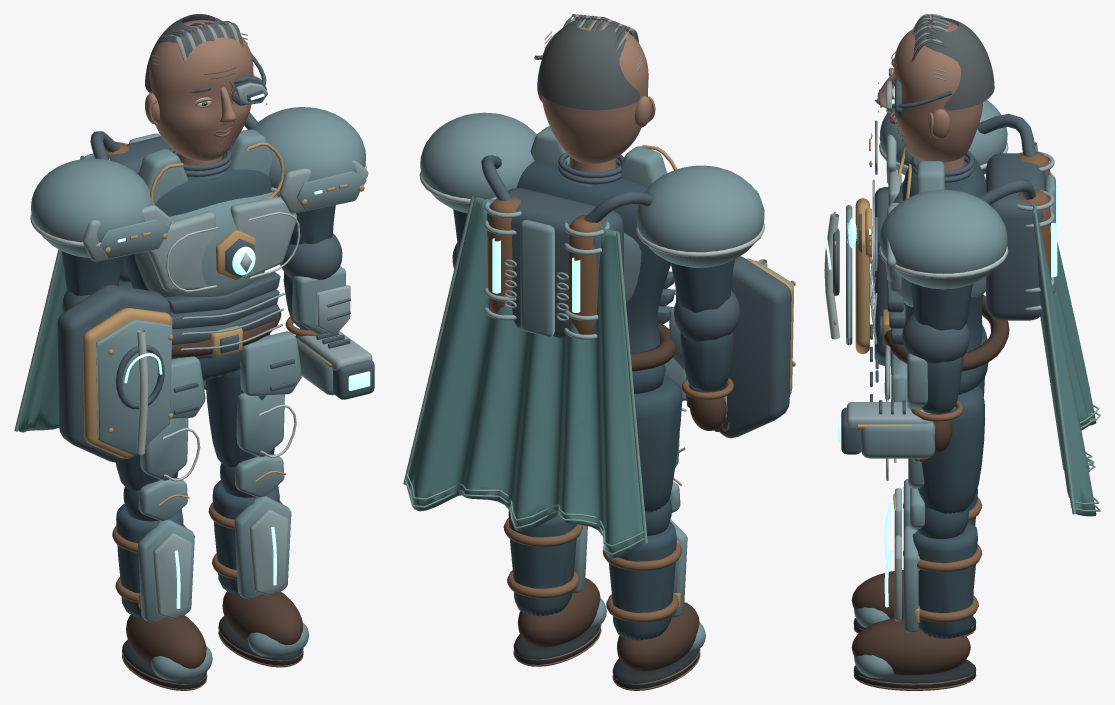
Rendered from rune.glb.
3 views of the same model, side by side, from view 1: azimuth 30°, elevation 25°; view 2: azimuth 150°, elevation 25°; view 3: azimuth 270°, elevation 25° (orthographic). The views are drawn at different scales.
Parts seen in each view (by area): view 1: leftArm • patinated blue titanium, head • warm umber skin, rightArm • patinated blue titanium, body • Oxidized gunmetal, body • Weathered titanium, leftArm • Oxidized gunmetal, body • patinated blue titanium, rightLeg • patinated blue titanium, rightKnee • patinated blue titanium, leftKnee • patinated blue titanium, body • woven underarmor, cloak • weathered sea-green cloak (+30 smaller); view 2: cloak • weathered sea-green cloak, leftArm • Oxidized gunmetal, leftArm • patinated blue titanium, body • Oxidized gunmetal, rightArm • patinated blue titanium, head • steel-grey hair, body • patinated blue titanium, body • woven underarmor, head • warm umber skin, leftKnee • woven underarmor, leftArm • woven underarmor, leftLeg • woven underarmor (+16 smaller); view 3: rightArm • patinated blue titanium, body • Oxidized gunmetal, head • warm umber skin, cloak • weathered sea-green cloak, rightKnee • woven underarmor, rightLeg • woven underarmor, rightKnee • Oiled brown leather, rightArm • woven underarmor, head • steel-grey hair, leftArm • patinated blue titanium, rightKnee • patinated blue titanium, weapon • patinated blue titanium (+26 smaller).
Boxes of the visible parts, x1,y1,x2,y2 form: leftArm • patinated blue titanium: (31, 158, 172, 455); head • warm umber skin: (145, 20, 257, 171); rightArm • patinated blue titanium: (253, 107, 366, 334); body • Oxidized gunmetal: (90, 112, 280, 353); body • Weathered titanium: (109, 142, 297, 350); leftArm • Oxidized gunmetal: (57, 284, 170, 462); body • patinated blue titanium: (129, 129, 277, 297); rightLeg • patinated blue titanium: (236, 331, 301, 457); rightKnee • patinated blue titanium: (234, 454, 309, 657); leftKnee • patinated blue titanium: (138, 478, 212, 680); body • woven underarmor: (123, 156, 271, 380); cloak • weathered sea-green cloak: (18, 153, 206, 432); cloak • weathered sea-green cloak: (406, 197, 643, 557); leftArm • Oxidized gunmetal: (674, 256, 791, 438); leftArm • patinated blue titanium: (636, 165, 794, 412); body • Oxidized gunmetal: (481, 152, 675, 338); rightArm • patinated blue titanium: (420, 112, 536, 213); head • steel-grey hair: (537, 14, 640, 110); body • patinated blue titanium: (520, 126, 667, 336); body • woven underarmor: (516, 160, 670, 393); head • warm umber skin: (537, 20, 655, 178); leftKnee • woven underarmor: (609, 498, 676, 640); leftArm • woven underarmor: (670, 259, 734, 392); leftLeg • woven underarmor: (634, 375, 682, 512); rightArm • patinated blue titanium: (875, 189, 1007, 409); body • Oxidized gunmetal: (858, 113, 1045, 344); head • warm umber skin: (875, 23, 982, 177); cloak • weathered sea-green cloak: (1029, 145, 1096, 516); rightKnee • woven underarmor: (912, 506, 977, 638); rightLeg • woven underarmor: (918, 386, 984, 513); rightKnee • Oiled brown leather: (851, 617, 970, 674); rightArm • woven underarmor: (910, 282, 972, 414); head • steel-grey hair: (891, 15, 994, 147); leftArm • patinated blue titanium: (846, 100, 1007, 345); rightKnee • patinated blue titanium: (854, 488, 924, 678); weapon • patinated blue titanium: (861, 421, 935, 458).
Size of the model in its own units: 1.02 by 1.9 by 0.7521.
